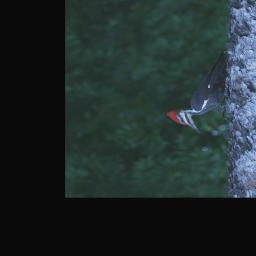Woodpecker: (167, 47, 231, 136)
